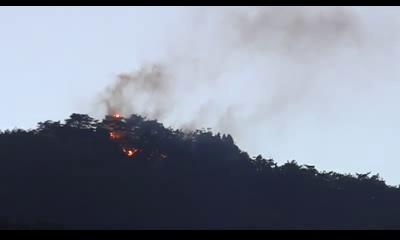smoke: (92, 60, 173, 117)
